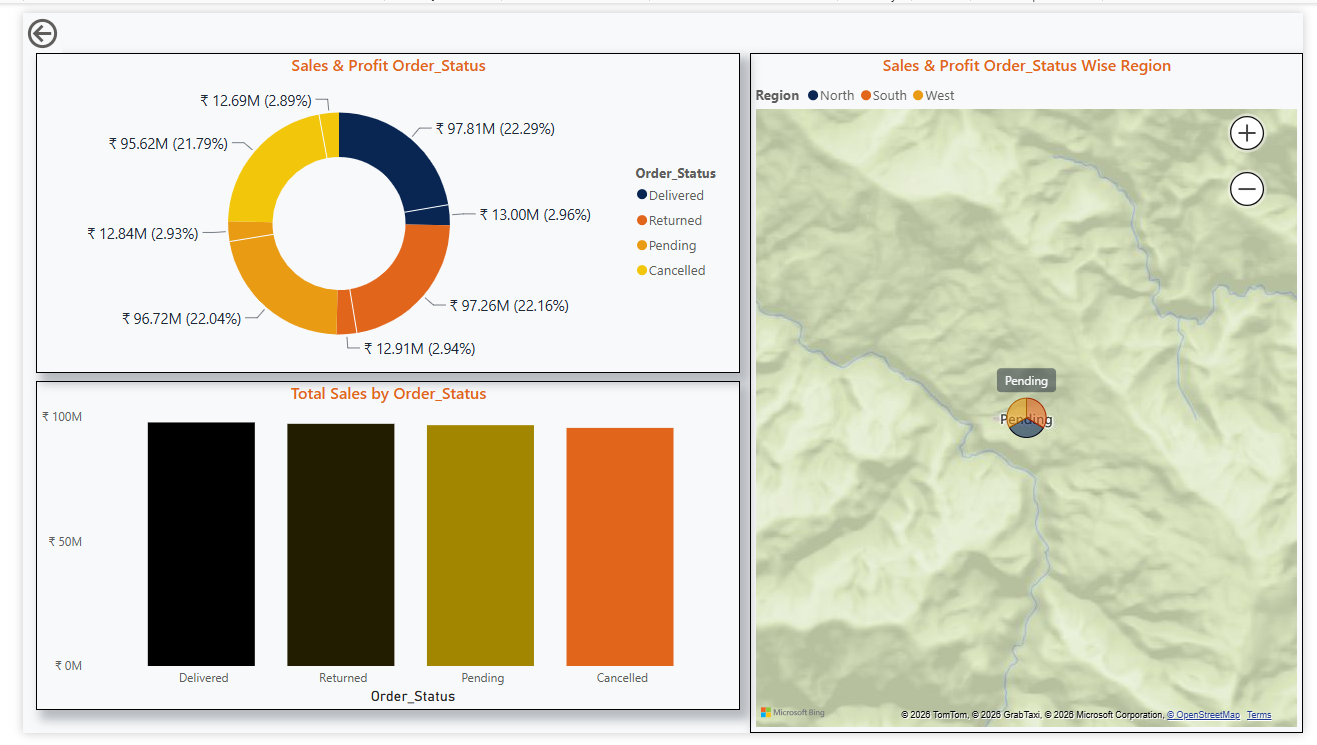

This screenshot's page, from the dashboard's own definition file:
{"tool":"powerbi","page":{"name":"Order Status Analysis","canvas":[1280,720],"ordinal":4},"visuals":[{"type":"donutChart","title":"Sales & Profit Order_Status","fields":{"Category":["ShopEase.Order_Status"],"Y":["All Measures.Total Sales","All Measures.Total Profit"]},"box":[13.3,39.9,704,320.1],"z":0},{"type":"columnChart","fields":{"Category":["ShopEase.Order_Status"],"Y":["All Measures.Total Sales"]},"box":[13.3,368,704,329],"z":1000},{"type":"actionButton","box":[0,0,39,39.9],"z":2000},{"type":"map","title":"Sales & Profit Order_Status Wise Region","fields":{"Series":["ShopEase.Region"],"Size":["All Measures.Total Sales"],"Category":["ShopEase.Order_Status"]},"box":[727.1,39.9,553.3,657],"z":3000}]}

Visuals, with their boxes in screenshot pixels (x1, y1, x2, y2), scaled from the page's 1280x720 canvas onto the 1317x745 screenshot:
"Sales & Profit Order_Status" donutChart: [14, 41, 738, 373]
columnChart - ShopEase.Order_Status x All Measures.Total Sales: [14, 381, 738, 721]
actionButton: [0, 0, 40, 41]
"Sales & Profit Order_Status Wise Region" map: [748, 41, 1316, 721]
